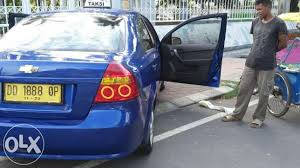plate: (5, 84, 61, 102)
